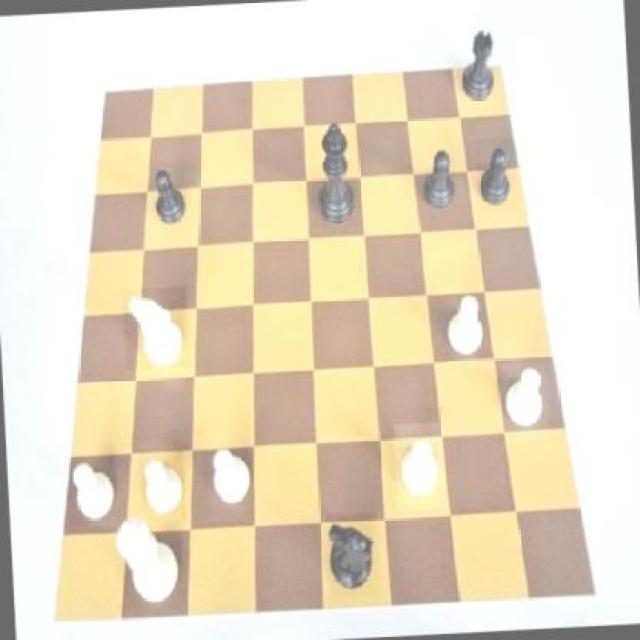black-bishop: (308, 122, 363, 228)
black-king: (328, 510, 382, 598)
black-knight: (145, 163, 197, 234), (417, 145, 464, 217), (475, 137, 518, 211)
black-queen: (454, 14, 509, 101)
white-bishop: (112, 511, 188, 610)
white-king: (123, 286, 191, 370)
white-knight: (394, 422, 447, 511), (202, 439, 256, 516), (66, 450, 120, 526), (498, 362, 548, 434), (140, 450, 188, 524), (446, 292, 494, 362)
